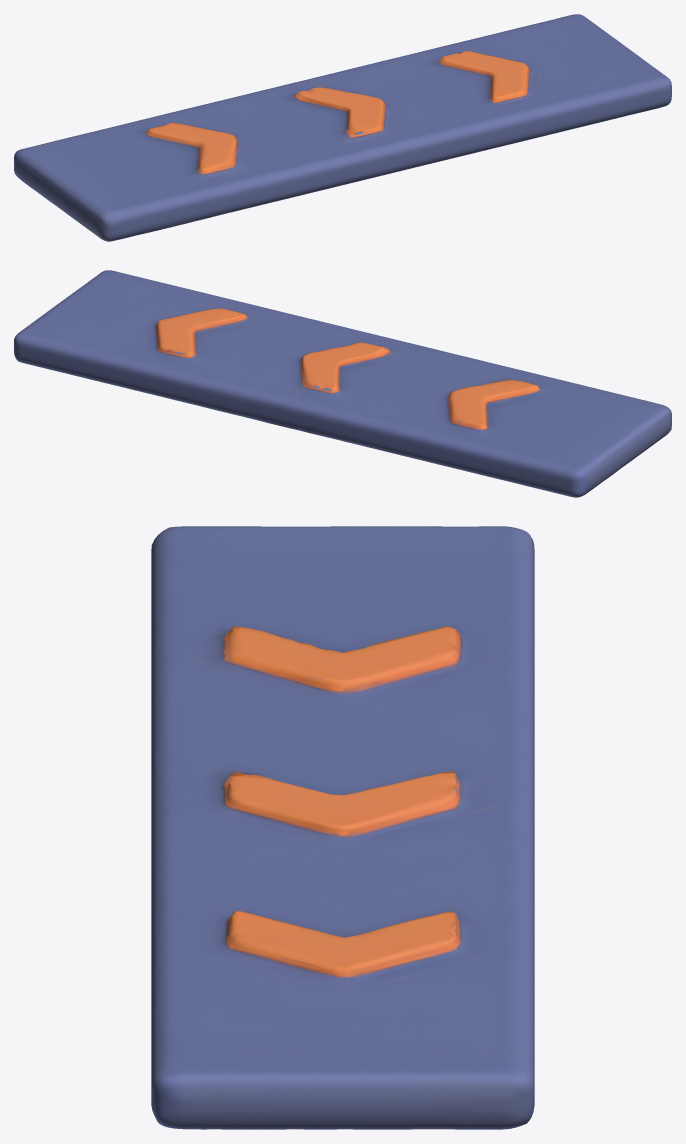
File: Speed Down Zone_texture.fbx
3 views of the same model, one above another, from view 1: azimuth 30°, elevation 25°; view 2: azimuth 150°, elevation 25°; view 3: azimuth 270°, elevation 25° (orthographic). The views are drawn at different scales.
Parts seen in each view (by area): view 1: Mesh0; view 2: Mesh0; view 3: Mesh0.
Part boxes in pixels (x1,y1,x2,y2): Mesh0: (14, 14, 671, 241); Mesh0: (14, 270, 671, 497); Mesh0: (151, 526, 534, 1129).
Size of the model in its own units: 192 by 10.89 by 55.7.
1 material, 1 textured.
